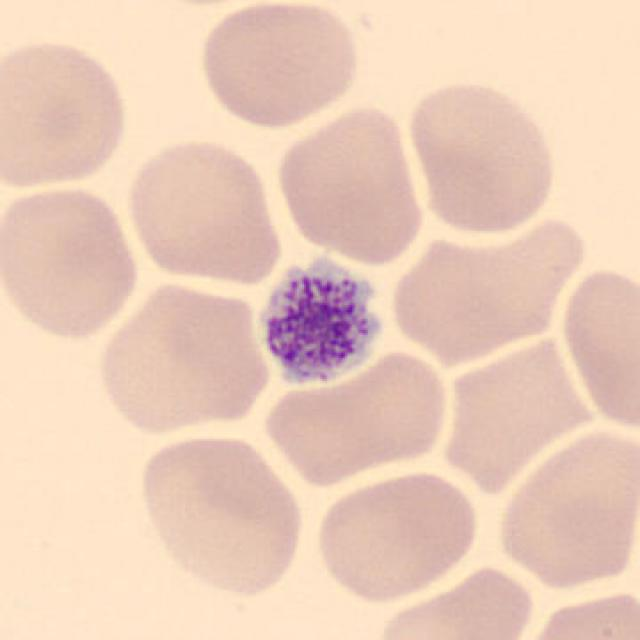Platelets: (249, 247, 391, 397)
RBC: (384, 208, 588, 369), (133, 428, 310, 600), (91, 277, 272, 437), (260, 346, 453, 488), (402, 74, 562, 238), (121, 132, 286, 288), (272, 101, 428, 266), (491, 422, 638, 592), (311, 465, 484, 605), (0, 178, 144, 344), (193, 0, 364, 130), (0, 33, 133, 193), (555, 261, 638, 434), (370, 562, 538, 640), (515, 583, 640, 640)
